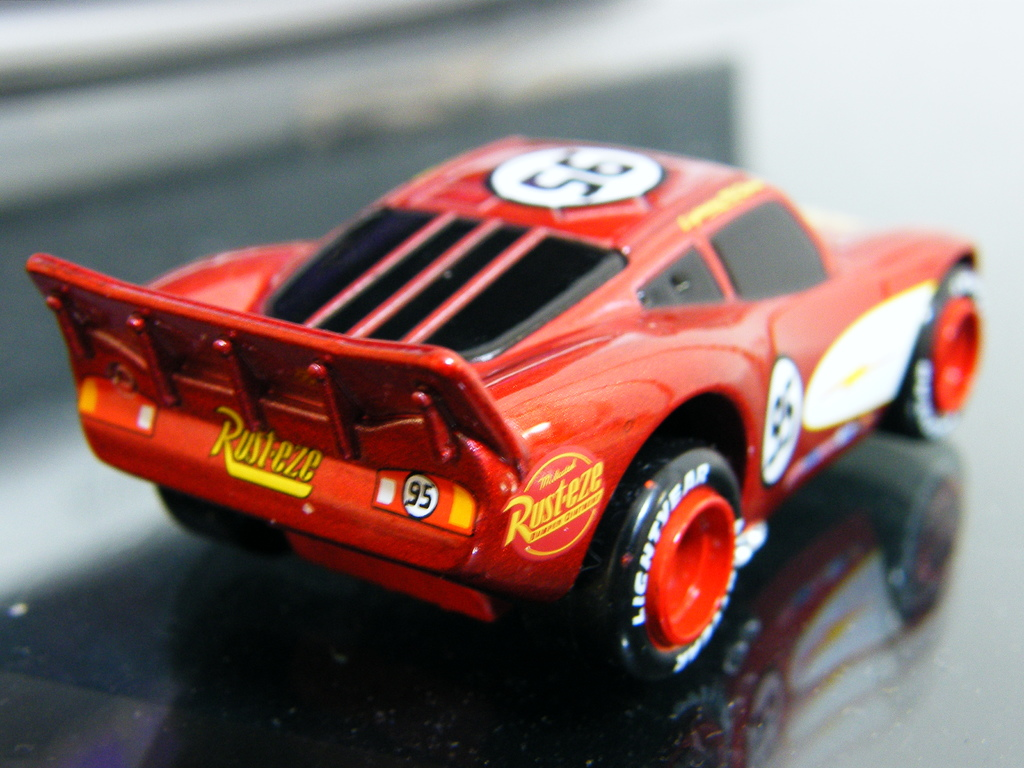Car: (49, 90, 997, 723)
